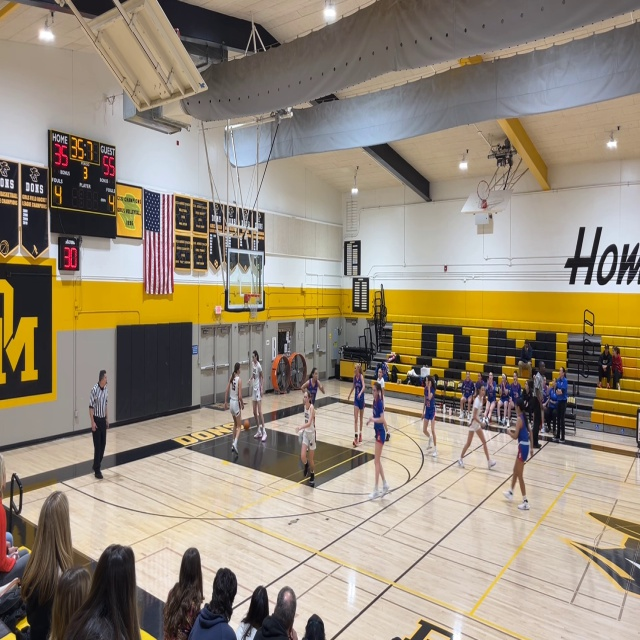Basketball: (242, 419, 250, 430)
